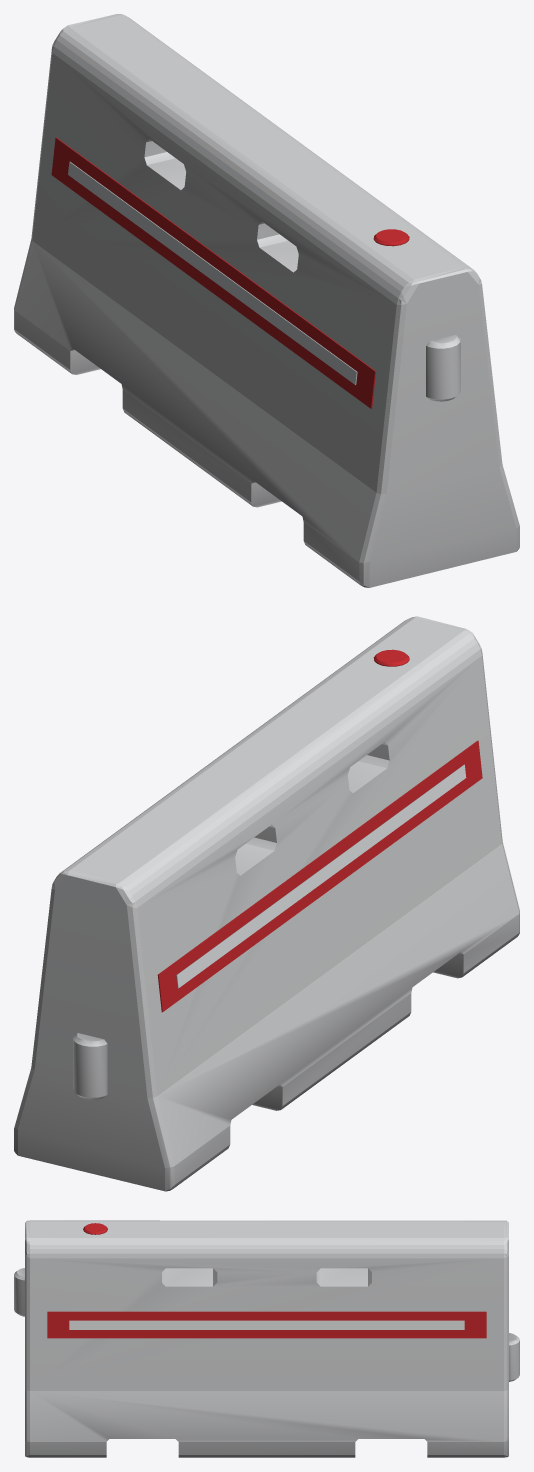
Rendered from barrier.glb.
3 renders of one model, top to bottom at view 1: azimuth 30°, elevation 25°; view 2: azimuth 150°, elevation 25°; view 3: azimuth 270°, elevation 25°, orthographic. The views are drawn at different scales.
Visible parts, largest first — view 1: LOD0; view 2: LOD0; view 3: LOD0.
Part boxes in pixels (bbox=[...]): LOD0: bbox=[14, 14, 519, 587]; LOD0: bbox=[14, 616, 519, 1191]; LOD0: bbox=[14, 1220, 519, 1457].
Size of what is drawn, in the model's own units: 0.4598 by 0.8177 by 1.83.
